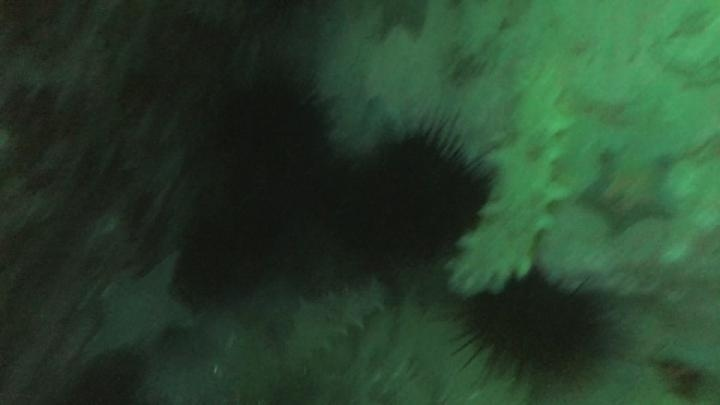echinus: (339, 128, 491, 270), (452, 267, 618, 393), (211, 69, 330, 183), (177, 201, 277, 303), (69, 344, 150, 404)
holothurian: (448, 78, 574, 298), (277, 274, 395, 366)
starfish: (87, 250, 200, 358), (582, 145, 682, 237)
